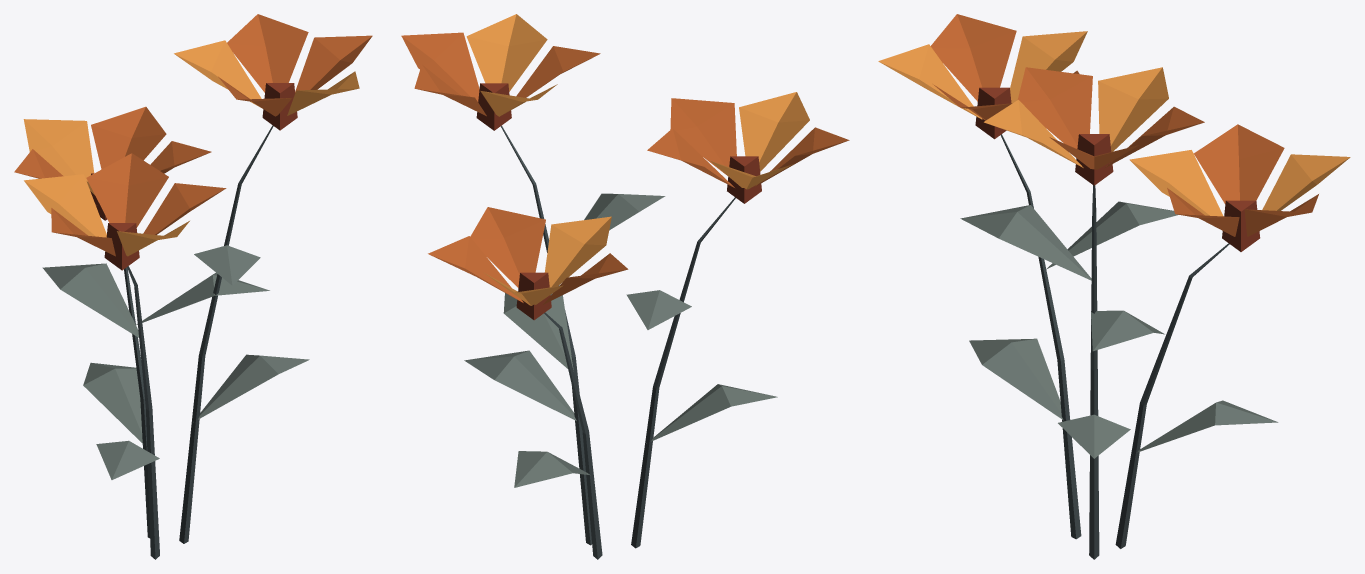
Rendered from EMBER_BLOOM.shadow.glb.
The picture shows the model from 3 angles, left to right: view 1: azimuth 30°, elevation 25°; view 2: azimuth 150°, elevation 25°; view 3: azimuth 270°, elevation 25°; orthographic projection. The views are drawn at different scales.
Parts seen in each view (by area): view 1: EMBER_BLOOM; view 2: EMBER_BLOOM; view 3: EMBER_BLOOM.
Part boxes in pixels (x1,y1,x2,y2): EMBER_BLOOM: (14,14,372,559); EMBER_BLOOM: (401,14,849,559); EMBER_BLOOM: (878,14,1350,559).
Bounding box in the file's own units: 0.3275 × 0.3755 × 0.3207.
1 material, 1 textured.
